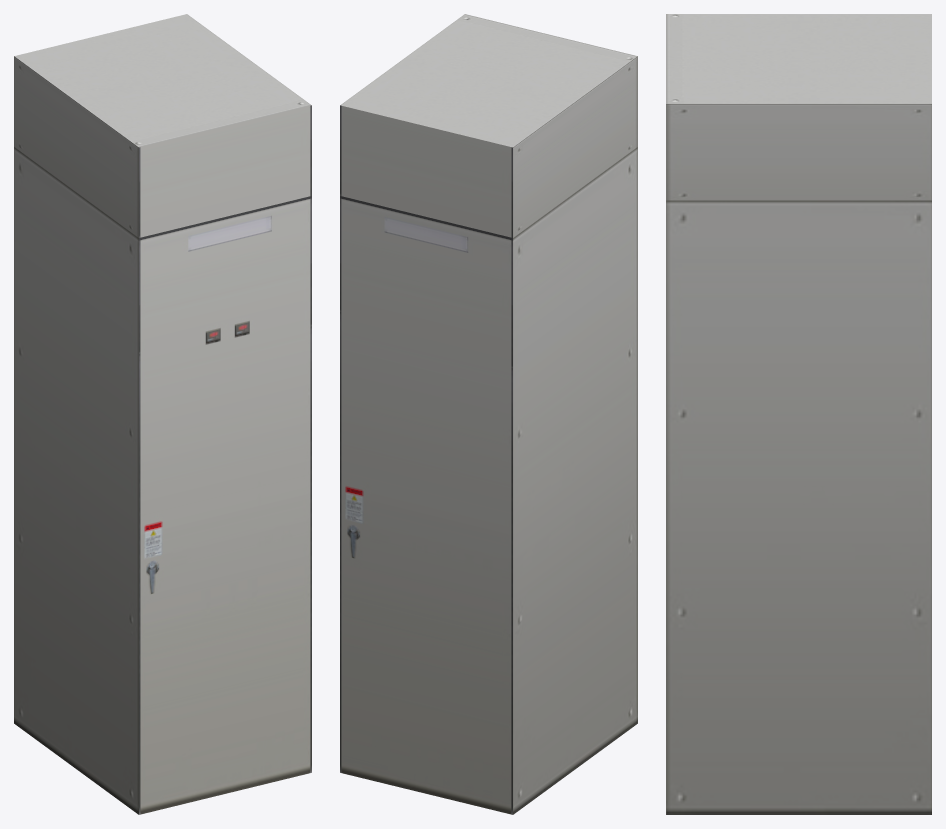
The model's file is RTU.gltf.
3 renders of one model, left to right at view 1: azimuth 30°, elevation 25°; view 2: azimuth 150°, elevation 25°; view 3: azimuth 270°, elevation 25°, orthographic. The views are drawn at different scales.
Parts seen in each view (by area): view 1: RTU2; view 2: RTU2; view 3: RTU2.
Boxes of the visible parts, x1,y1,x2,y2 form: RTU2: (14,14,311,814); RTU2: (340,14,637,814); RTU2: (666,14,931,814).
Size of the model in its own units: 0.8 by 2.95 by 1.
1 material, 1 textured.
